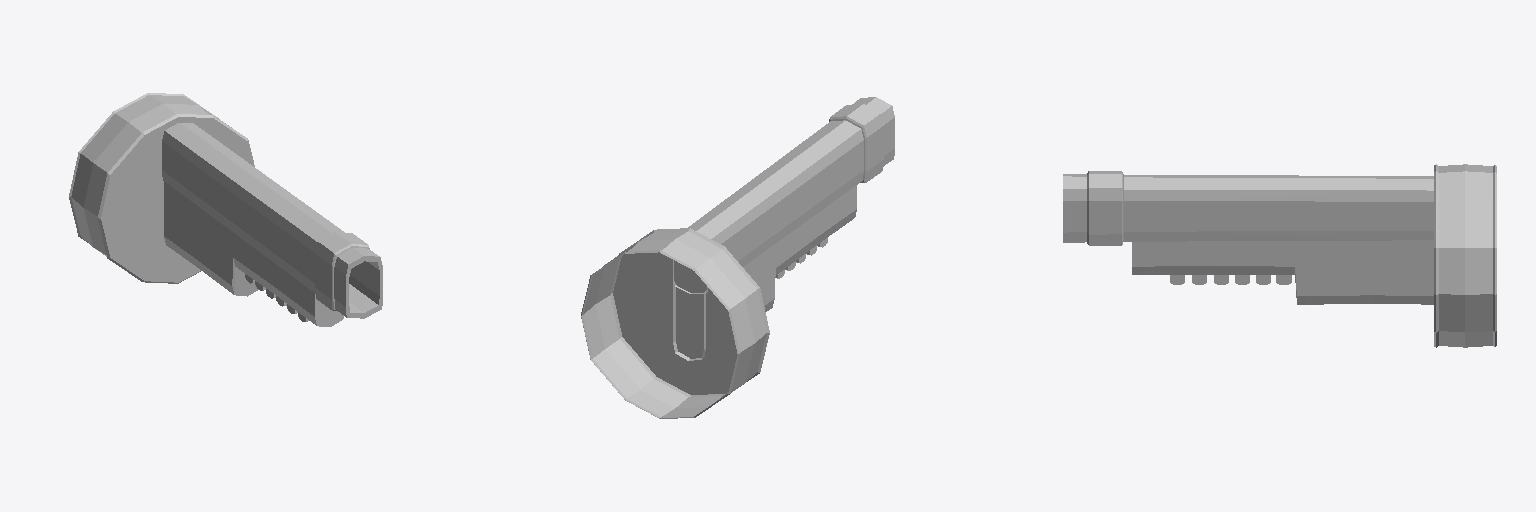
Rendered from gun1.obj.
The picture shows the model from 3 angles: view 1: azimuth 30°, elevation 25°; view 2: azimuth 150°, elevation 25°; view 3: azimuth 270°, elevation 25°; orthographic projection.
Visible parts, largest first — view 1: Gun-1_Cylinder.045; view 2: Gun-1_Cylinder.045; view 3: Gun-1_Cylinder.045.
Boxes of the visible parts, box(x1,y1,x2,y2) form: Gun-1_Cylinder.045: box(69, 93, 382, 326); Gun-1_Cylinder.045: box(581, 97, 894, 418); Gun-1_Cylinder.045: box(1063, 164, 1496, 347).
Bounding box in the file's own units: 0.3524 × 0.3575 × 0.8257.